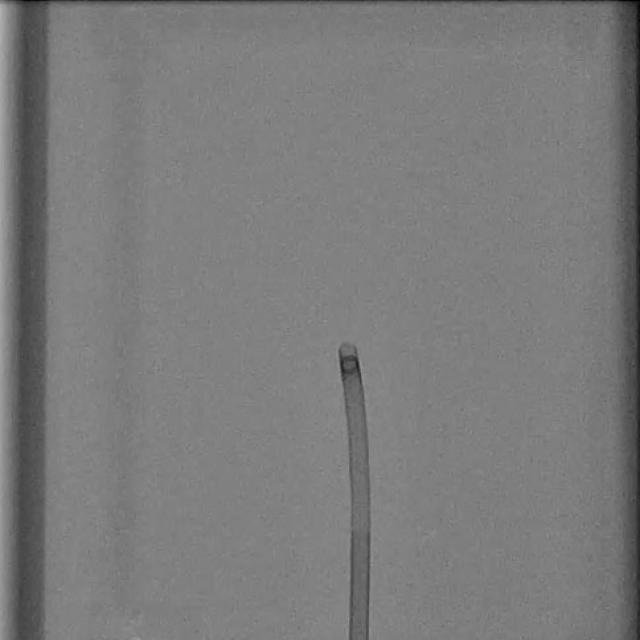bend: (351, 516, 371, 532)
entry: (349, 634, 367, 640)
marker: (340, 355, 360, 375)
tip: (339, 344, 358, 351)
